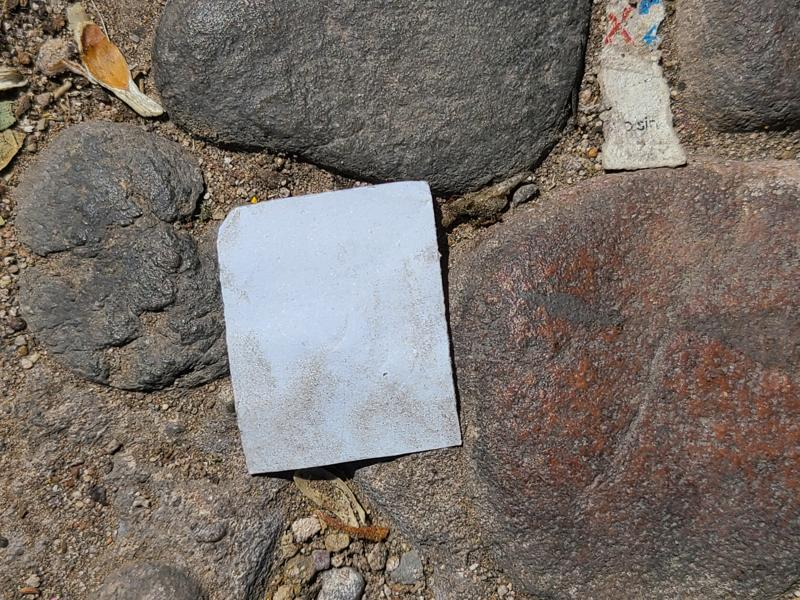papel: (215, 181, 462, 477)
